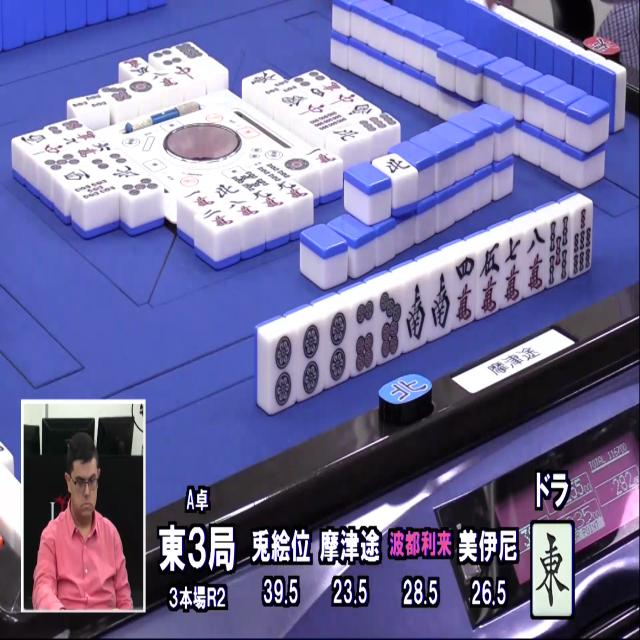east: (534, 525, 574, 612)
m4: (450, 254, 480, 326)
m5: (477, 242, 506, 319)
m7: (499, 234, 526, 308)
m8: (524, 222, 551, 295)
north: (383, 153, 414, 182)
s5: (547, 217, 573, 290)
s7: (571, 204, 592, 276)
south: (402, 279, 430, 351), (427, 267, 455, 338)
t2: (268, 331, 300, 413), (322, 309, 354, 389), (296, 322, 328, 402)
t6: (348, 298, 379, 378)
t7: (374, 288, 405, 364)
